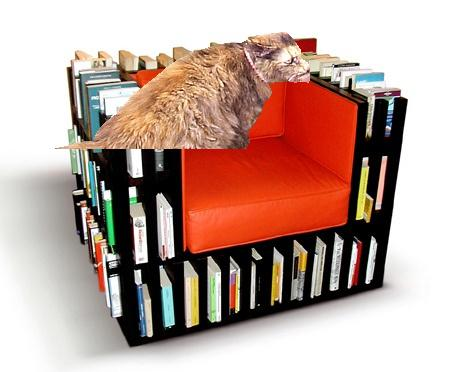tampered: (52, 33, 310, 149)
